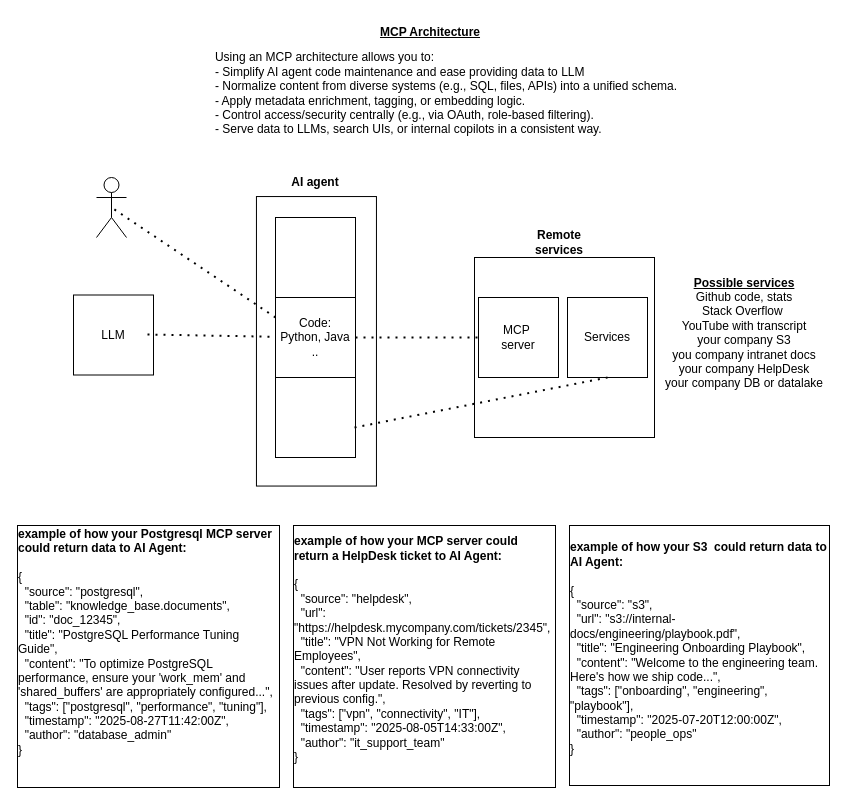
This 847x805 diagram has some shape labels left out. Here are the shapes that lost their labels. From the top down, the centre of each, then its label:
[111,207]: User interaction
[315,257]: MCP client
[315,417]: Optional Local MCP server connects to local service
